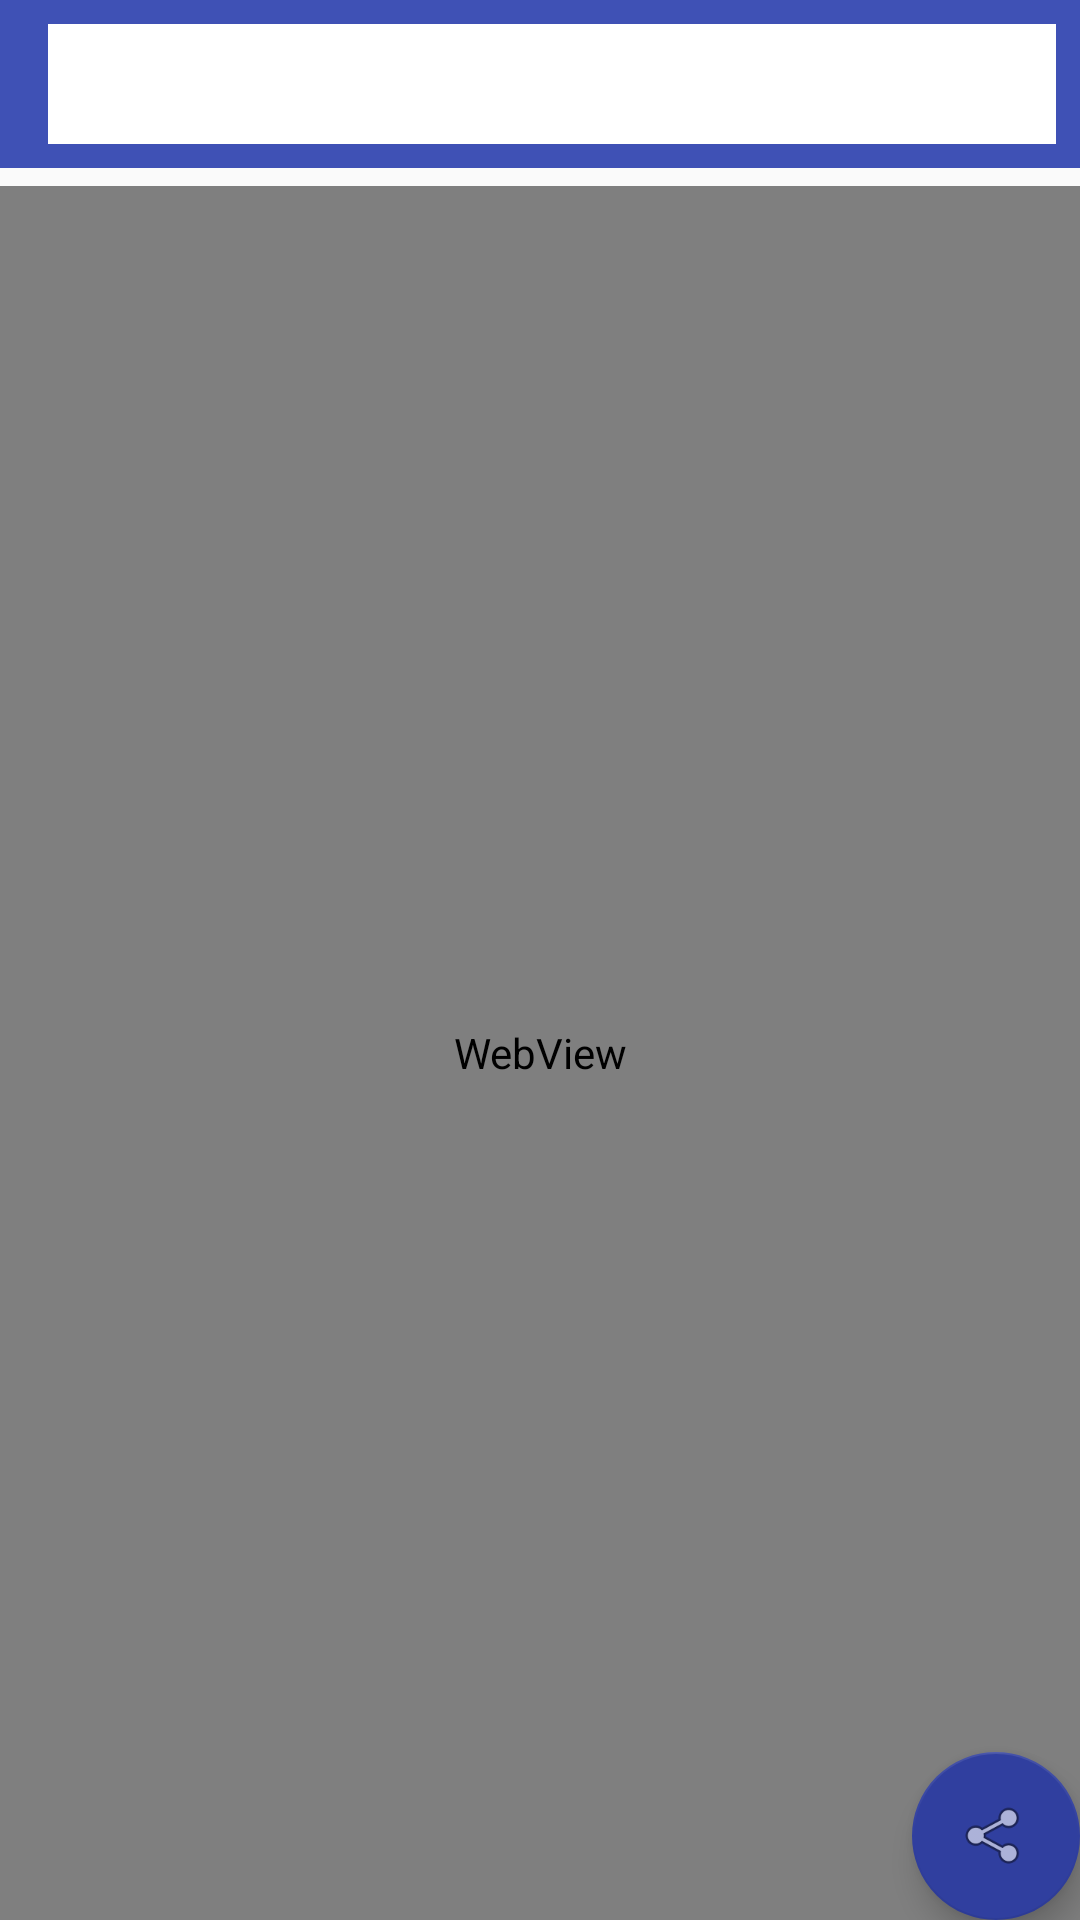

Named icons in this screenshot (1080 x 1920) and their centers, (x,y):
share: (996,1836)
